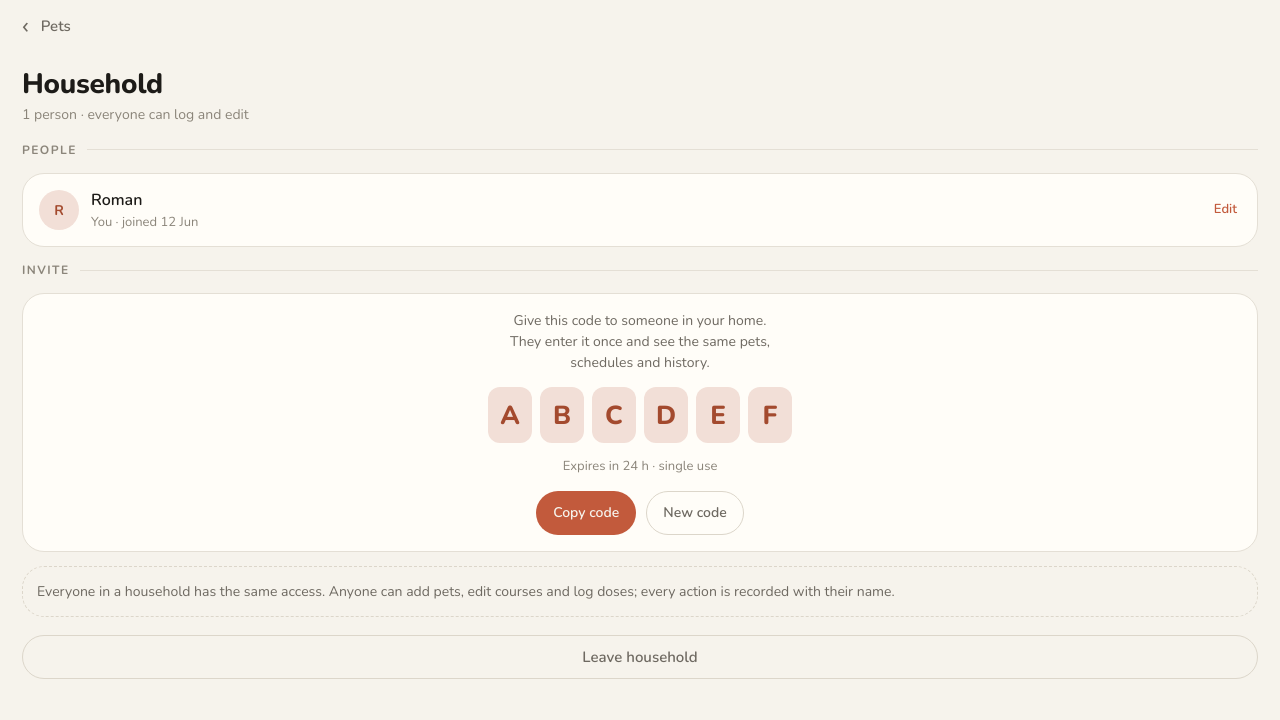
Scenario: HouseholdPage › SPEC §5: the live code renders as six characters; New code issues a fresh one and revokes the previous
Expected: the element named "Join code ABCDEF" reads "A B C D E F", [488,387,792,443]
Click the button "New code": (695, 513) [646,491,744,535]
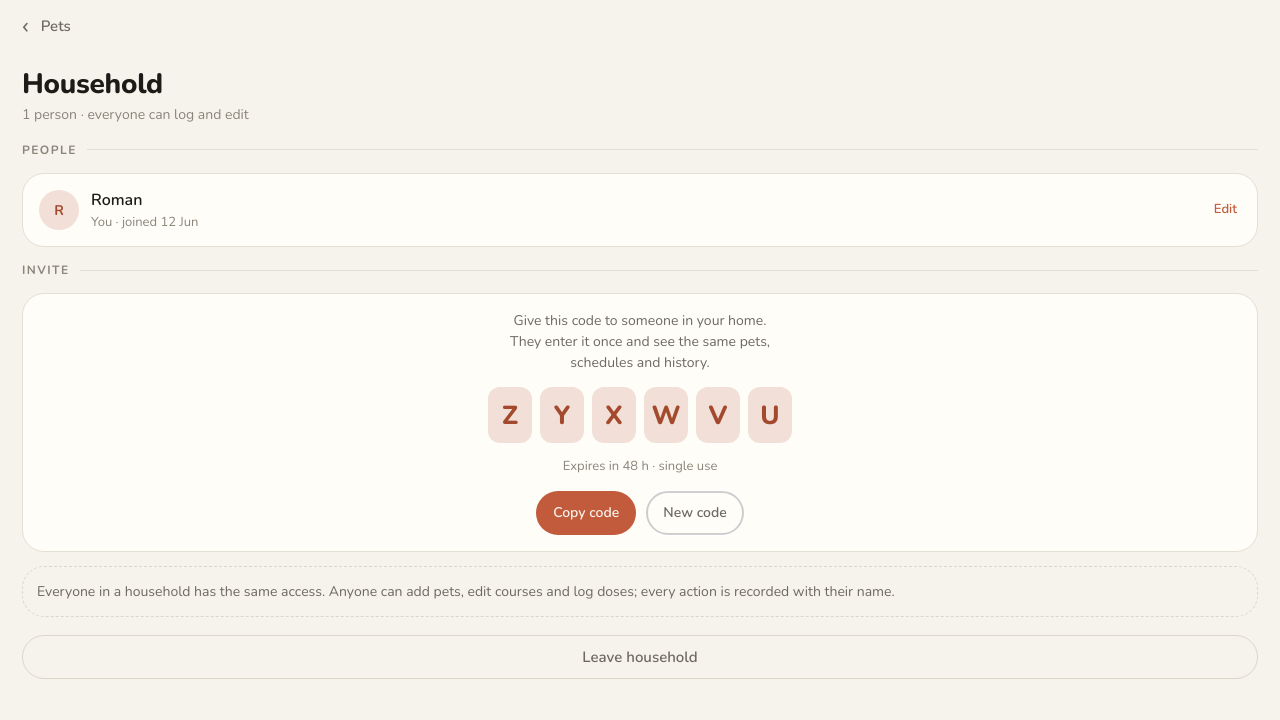
Expected: the element showing "Z Y X W V U" is shown, [488,387,792,443]
